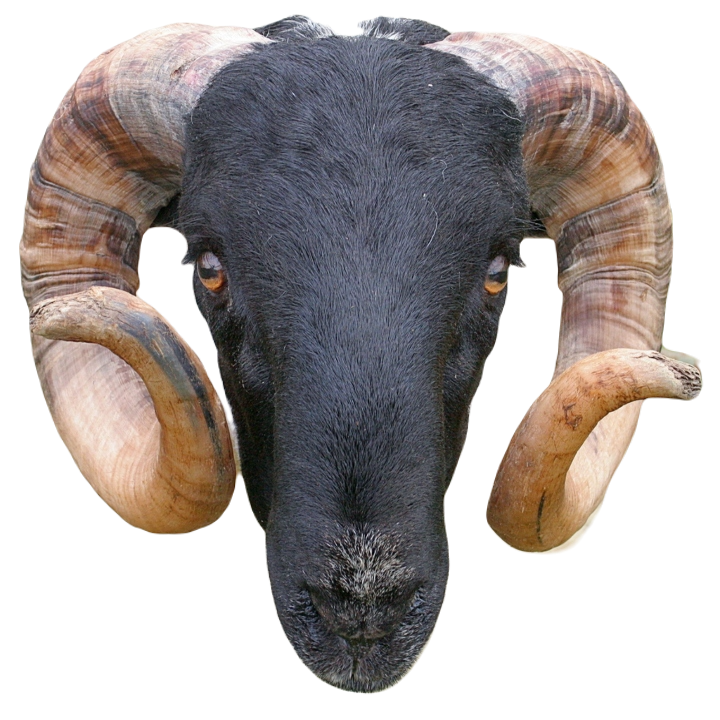Sheep: (12, 8, 702, 698)
